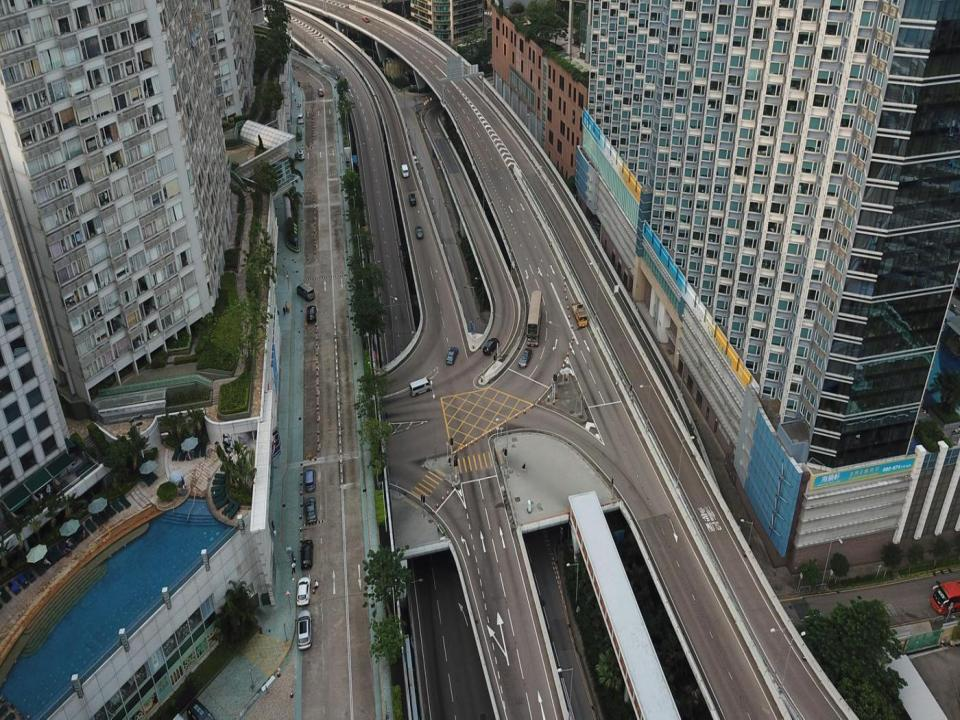bus: (931, 580, 960, 614), (526, 291, 542, 346)
car: (296, 610, 312, 650), (295, 576, 310, 606), (300, 540, 314, 569), (304, 497, 317, 524), (518, 347, 532, 368), (446, 346, 458, 364), (306, 305, 316, 323), (405, 144, 414, 156), (416, 226, 423, 239), (298, 149, 304, 161), (362, 16, 370, 23), (412, 156, 419, 164), (318, 88, 324, 97)
truck: (570, 302, 590, 327)
van: (187, 698, 215, 719), (409, 376, 433, 396), (297, 282, 315, 302), (303, 468, 316, 492), (483, 337, 499, 356), (400, 164, 408, 177), (409, 192, 416, 205), (298, 112, 304, 124)
